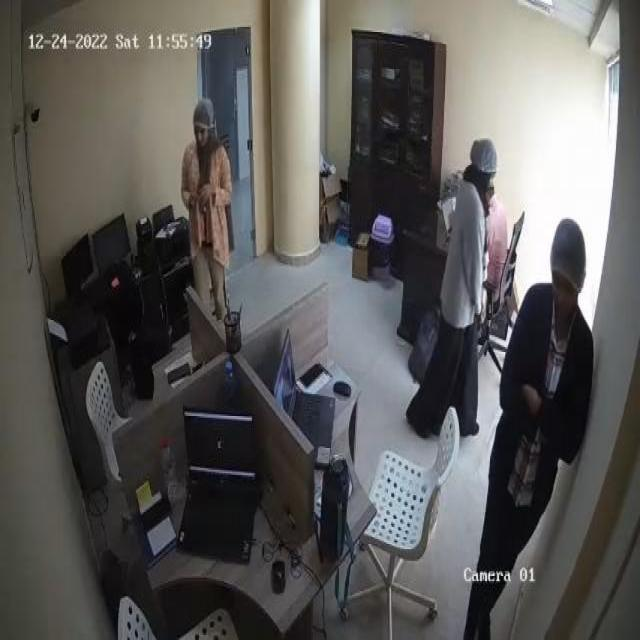hairnet: (550, 216, 585, 290), (473, 136, 498, 173), (193, 98, 216, 124)
